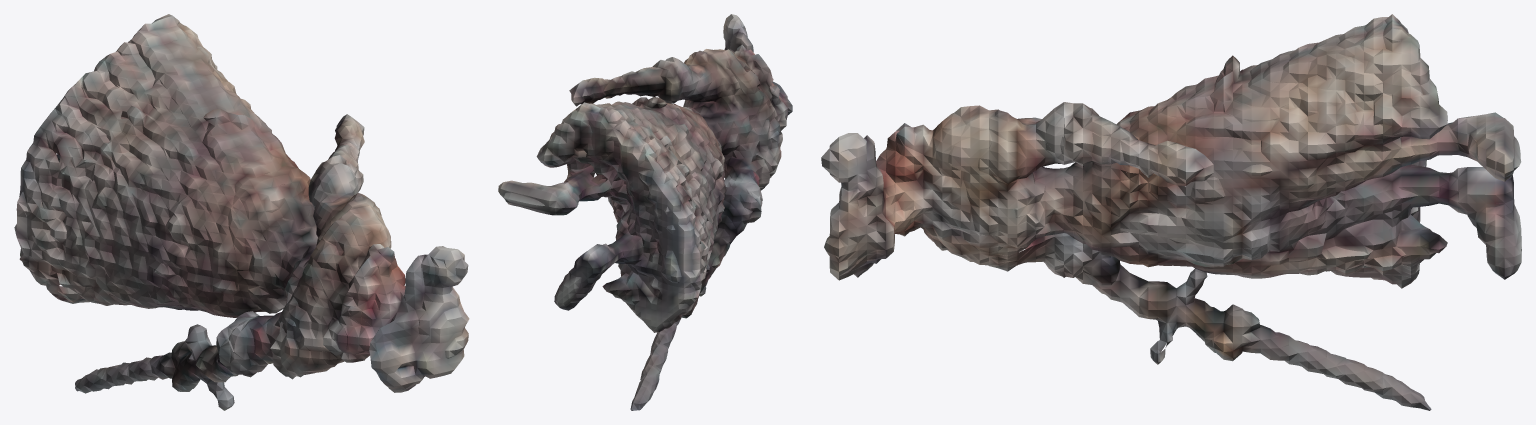
Rendered from renais_warrior_f_0.glb.
3 views of the same model, side by side, from view 1: azimuth 30°, elevation 25°; view 2: azimuth 150°, elevation 25°; view 3: azimuth 270°, elevation 25° (orthographic). The views are drawn at different scales.
Visible parts, largest first — view 1: world; view 2: world; view 3: world.
Part boxes in pixels (x1,y1,x2,y2): world: (14,14,469,410); world: (498,14,792,410); world: (821,14,1521,410).
Bounding box in the file's own units: 0.5047 × 0.6868 × 1.02.
